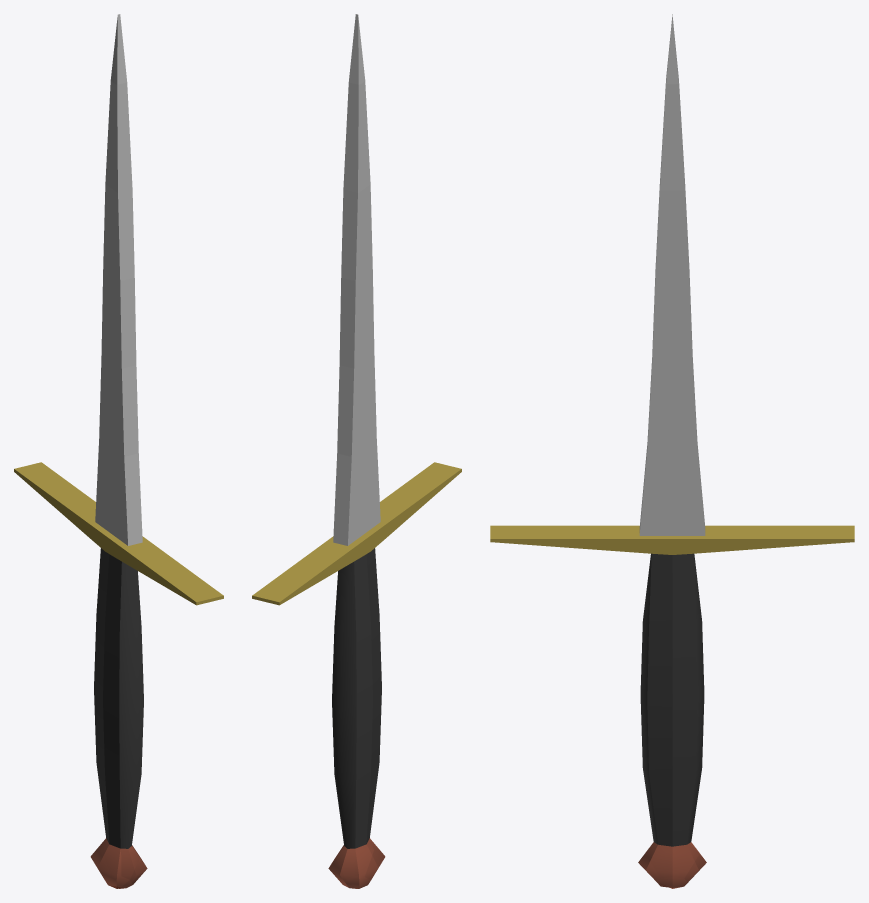
Rendered from basicDagger_separate.fbx.
3 renders of one model, left to right at view 1: azimuth 30°, elevation 25°; view 2: azimuth 150°, elevation 25°; view 3: azimuth 270°, elevation 25°, orthographic.
Visible parts, largest first — view 1: blade2, handle1, hilt; view 2: blade2, handle1, hilt; view 3: handle1, blade2, hilt.
Part boxes in pixels (x1,y1,x2,y2): blade2: [95, 14, 142, 545]; handle1: [90, 548, 147, 888]; hilt: [14, 462, 223, 605]; blade2: [333, 14, 380, 545]; handle1: [328, 548, 385, 888]; hilt: [252, 462, 461, 605]; handle1: [638, 553, 706, 888]; blade2: [639, 14, 705, 535]; hilt: [490, 525, 854, 554].
Size of the model in its own units: 1.55 by 30.08 by 11.37.
